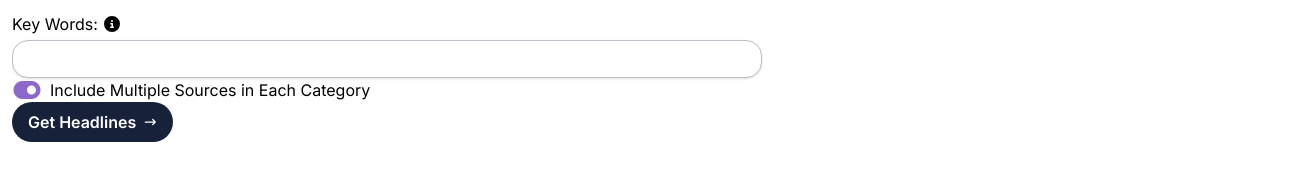
gives more options if keyword entered
Type "truth" into the field.
click(387, 59); type("truth")  # box [12,40,762,78]
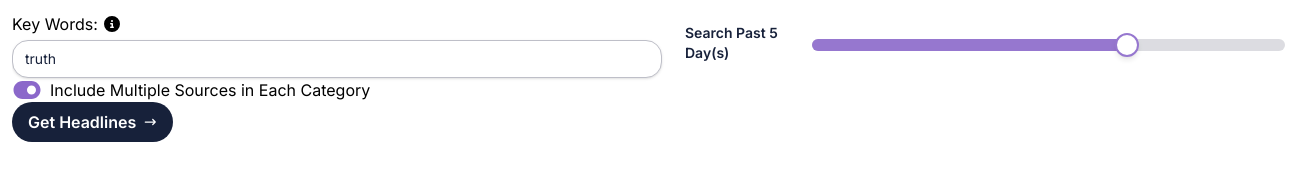
Result: the slider labelled "Search Past 5 Day(s)" is shown at [1117,35,1137,55]
